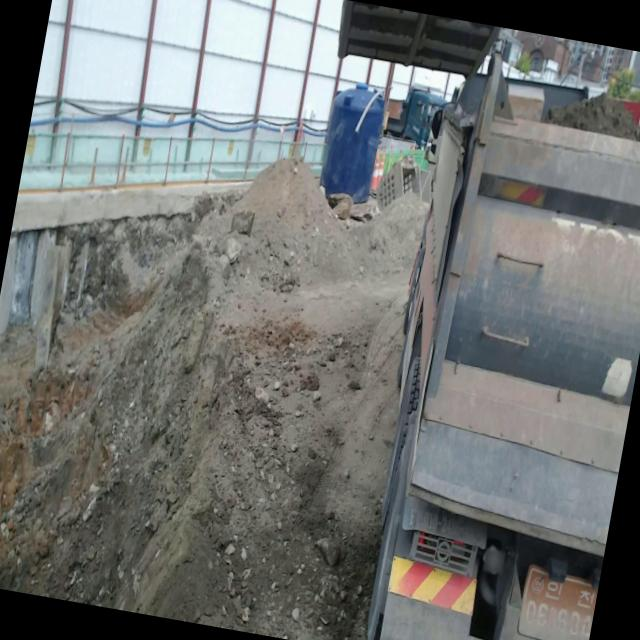white-sand: (0, 160, 425, 640)
